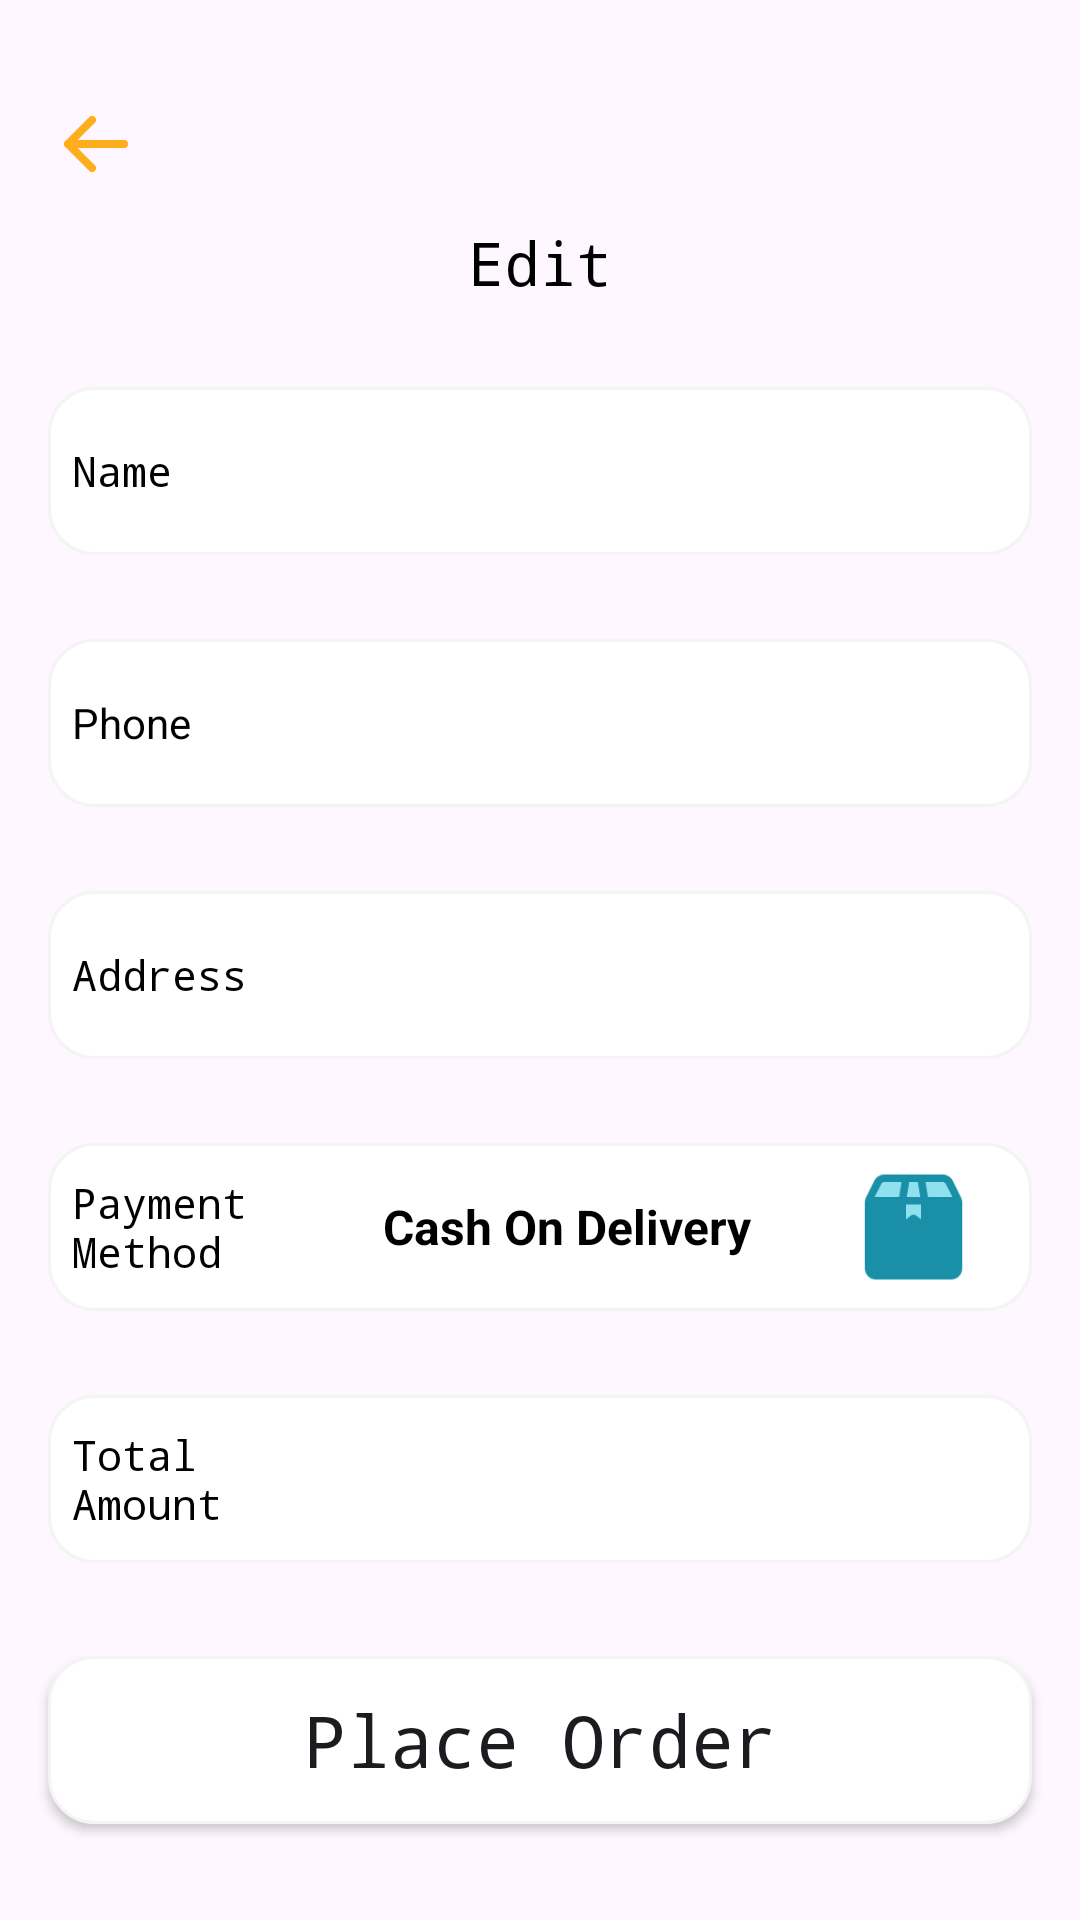

Screen size 1080px×1920px. Icon name, then its box in pixels as (x1, y1, x2, y2):
arrow left: (63, 115, 128, 173)
